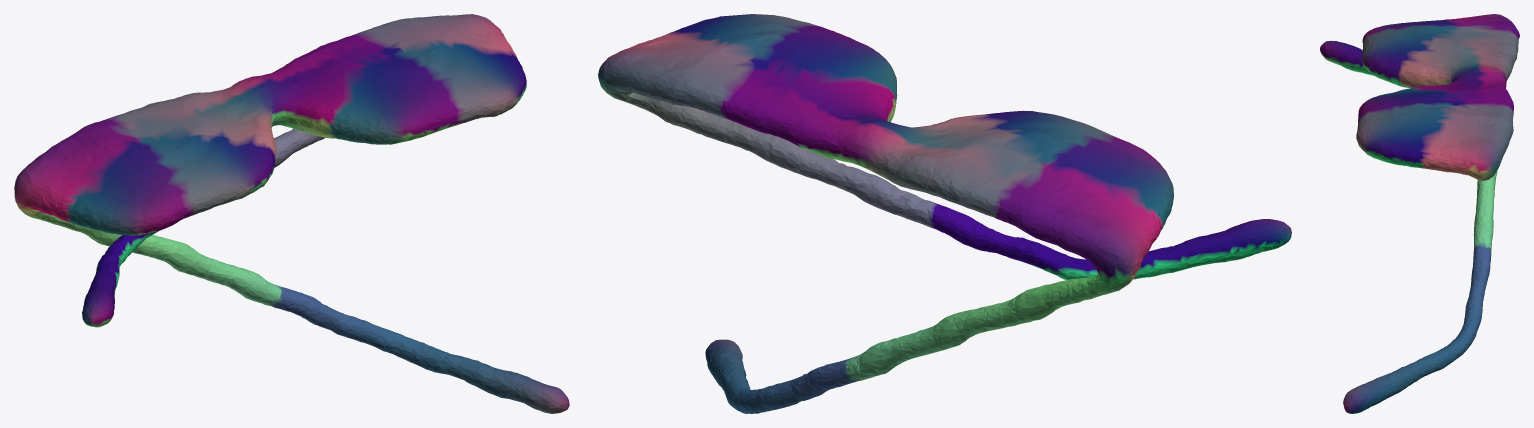
Rendered from glasses-5.off.obj.
3 views of the same model, side by side, from view 1: azimuth 30°, elevation 25°; view 2: azimuth 150°, elevation 25°; view 3: azimuth 270°, elevation 25° (orthographic). The views are drawn at different scales.
Size of the model in its own units: 1.3 by 0.837 by 0.5537.
